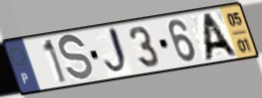1: (41, 38, 69, 85)
3: (128, 25, 161, 68)
6: (168, 18, 198, 64)
A: (201, 11, 240, 63)
J: (103, 25, 132, 78)
S: (58, 32, 94, 84)
